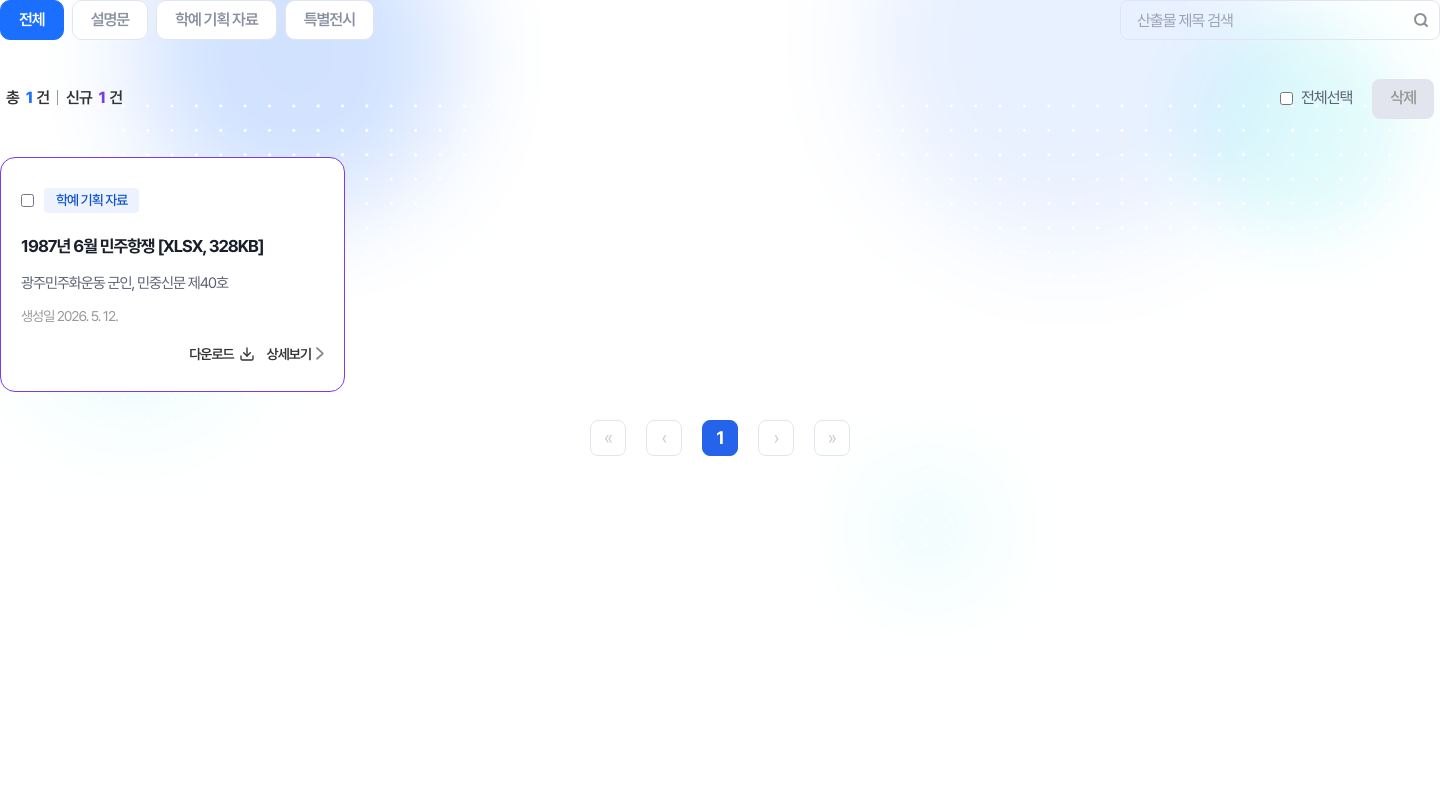
Scenario: 선택과 삭제 (5-3·5-4) › 삭제 버튼은 곧장 지우지 않고 확인을 먼저 받는다
Click the checkbox named "1987년 6월 민주항쟁 선택".
click(28, 200)  # box [21,178,34,223]
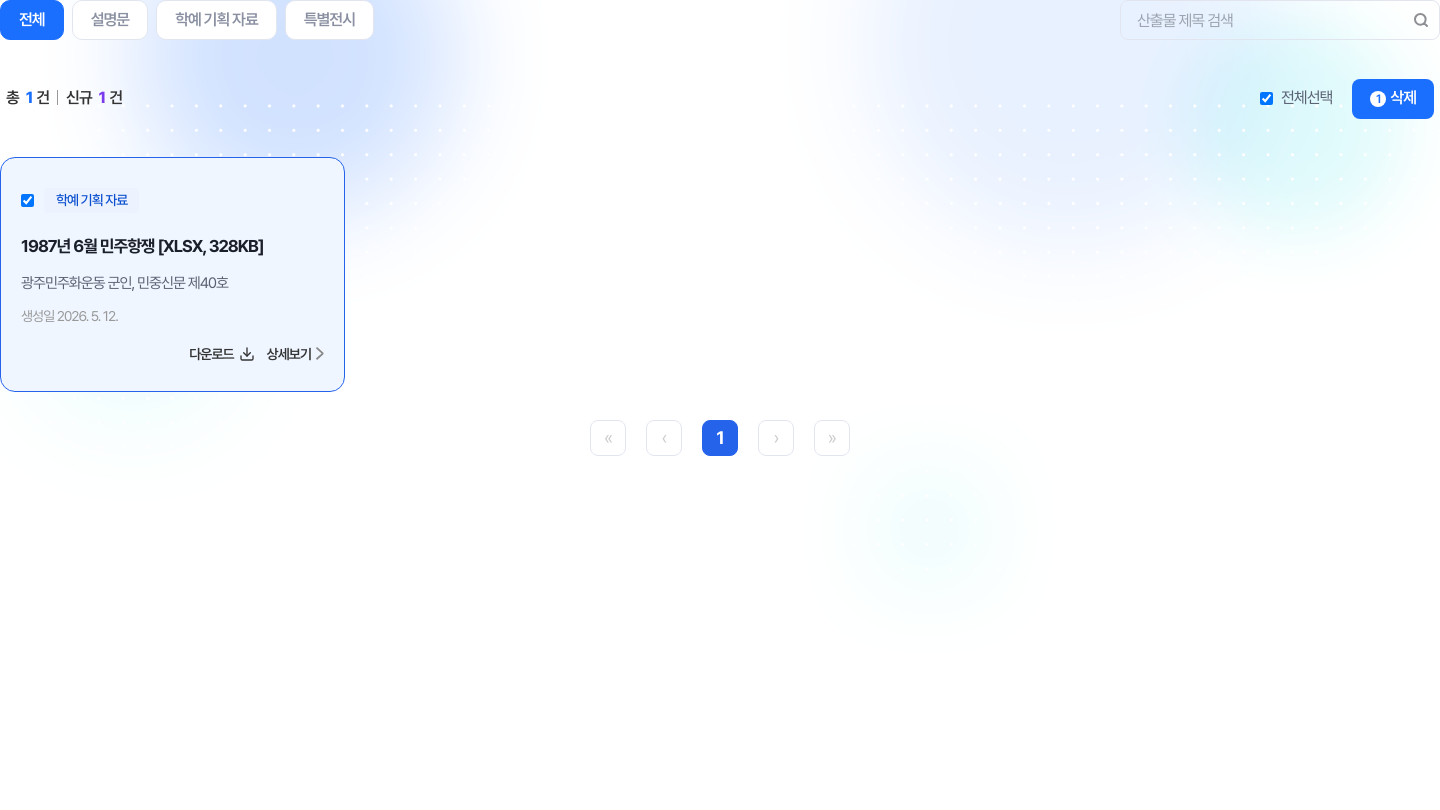
Click the button "1 삭제".
click(1393, 98)  # box [1352,78,1434,118]
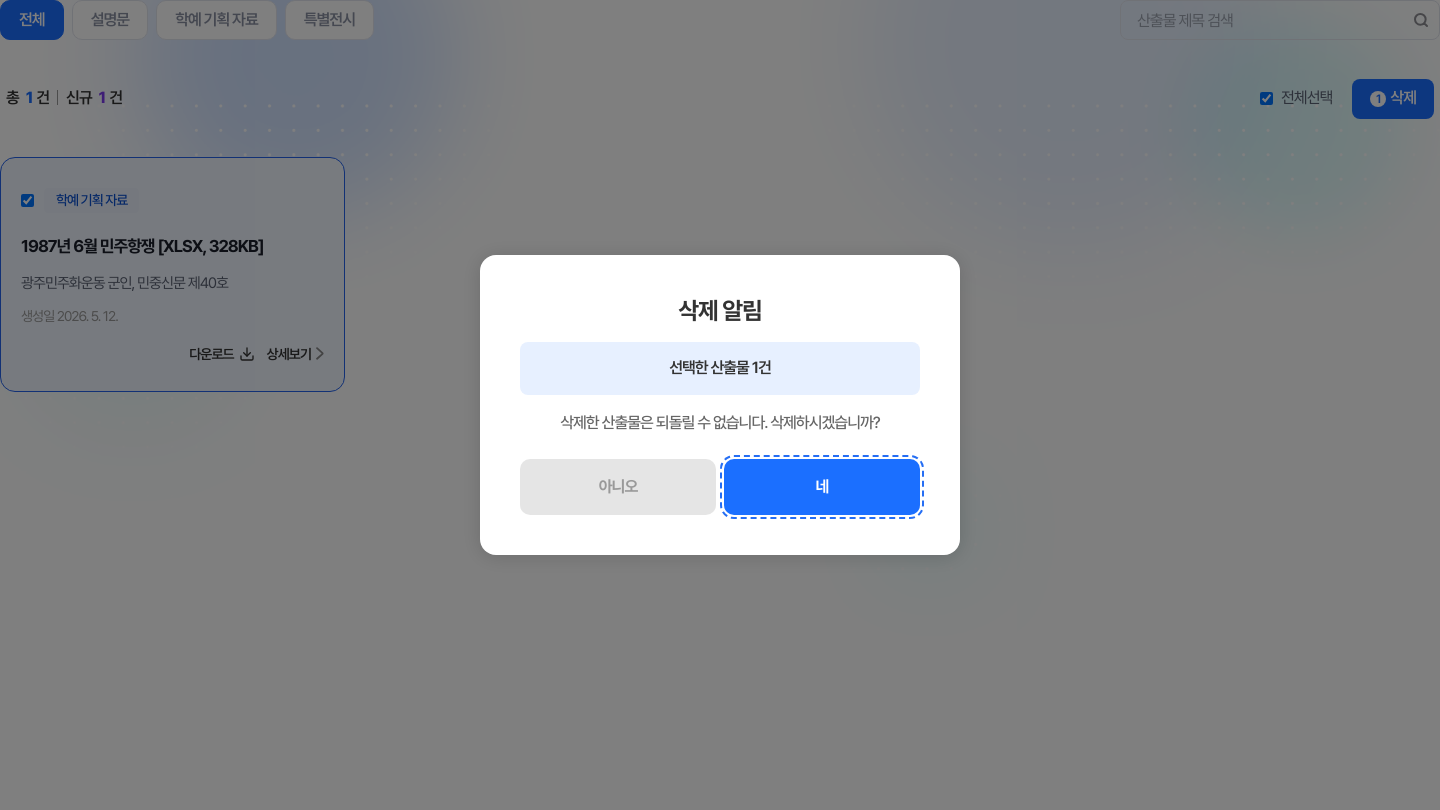
Result: the text "선택한 산출물 1건" is shown at [520,342,920,395]
